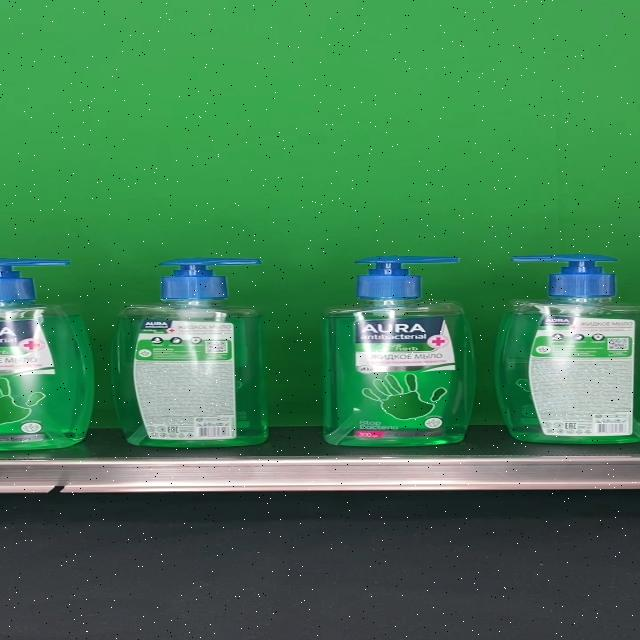Bottle: (113, 258, 268, 448), (322, 256, 477, 446), (494, 255, 640, 444)
Cap: (511, 255, 616, 298), (353, 257, 460, 299), (158, 258, 261, 300)
